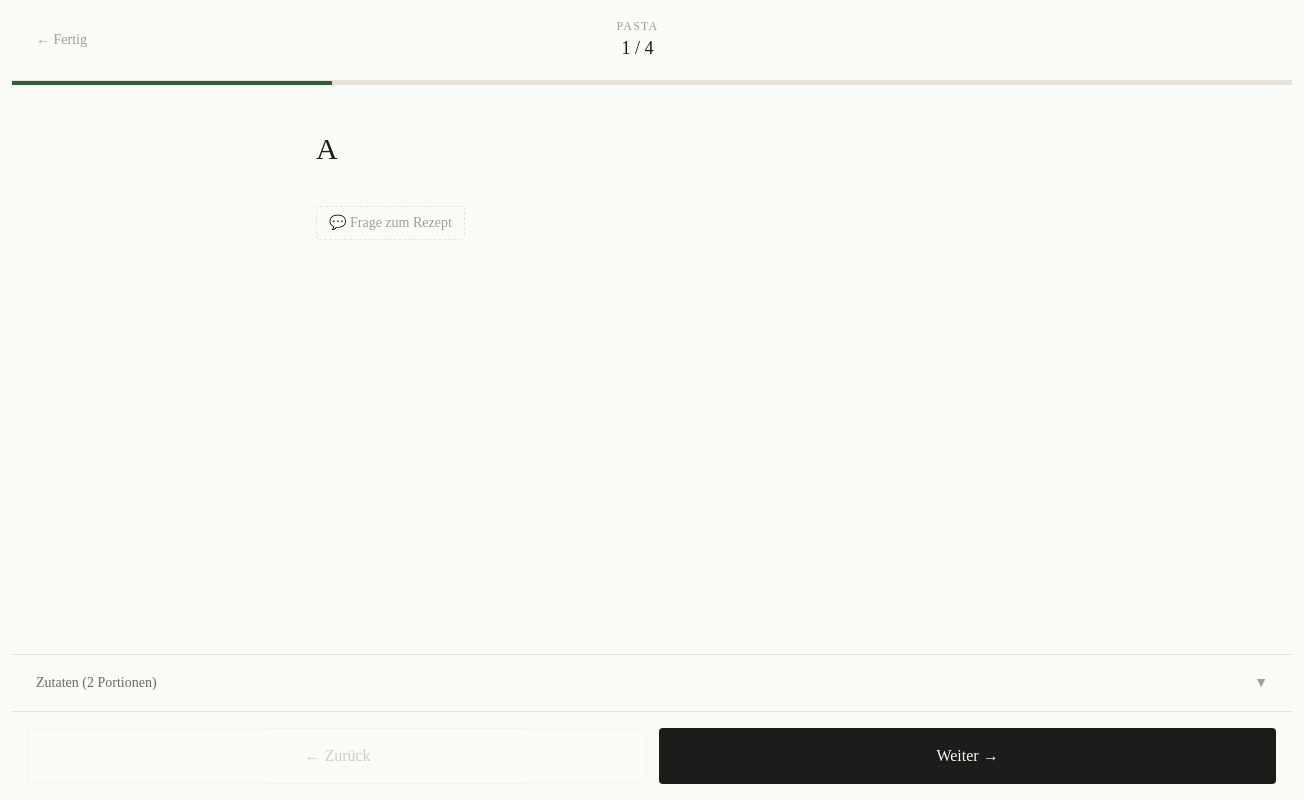
Test case: CookMode — persistent timer › beeps at zero even while viewing a different step
Click the button "Weiter →" at (968, 756), box [659, 728, 1276, 784]
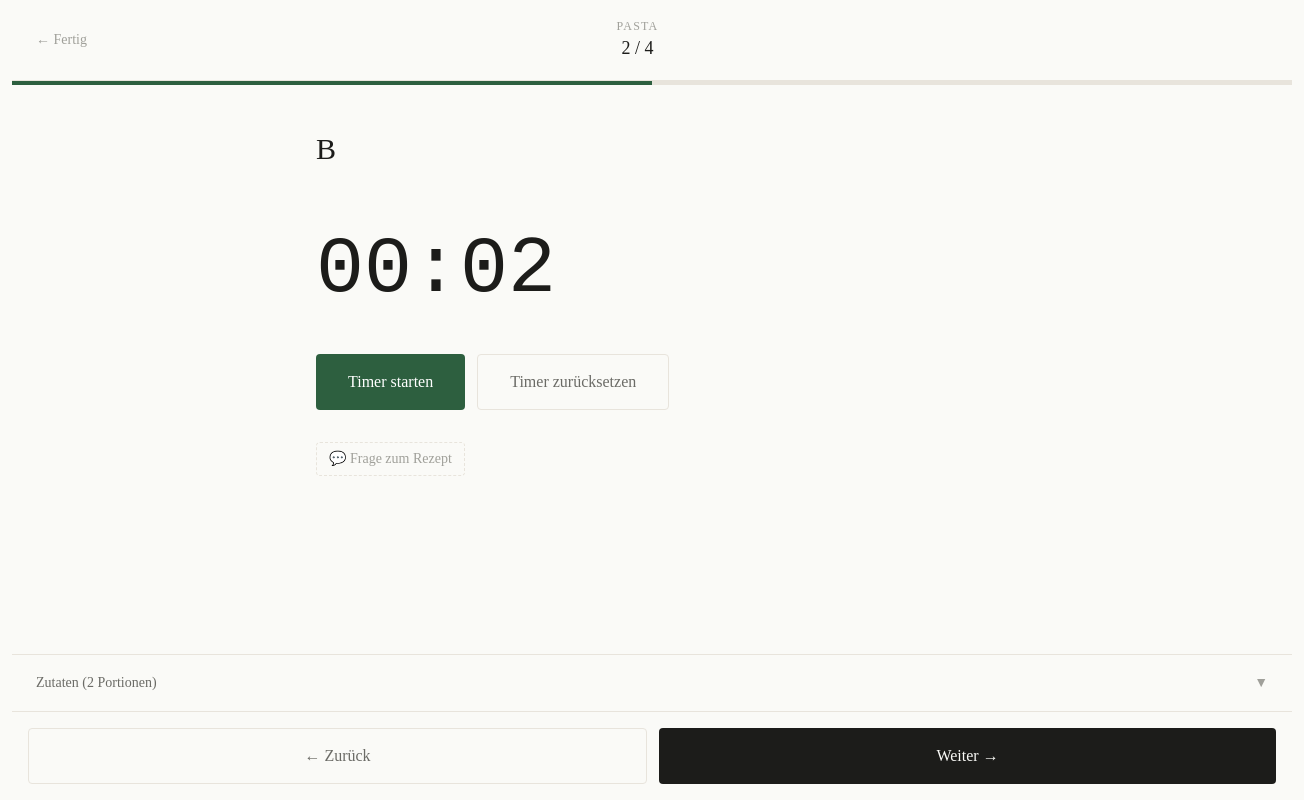
Click the button "Timer starten" at (391, 382), box [316, 354, 465, 410]
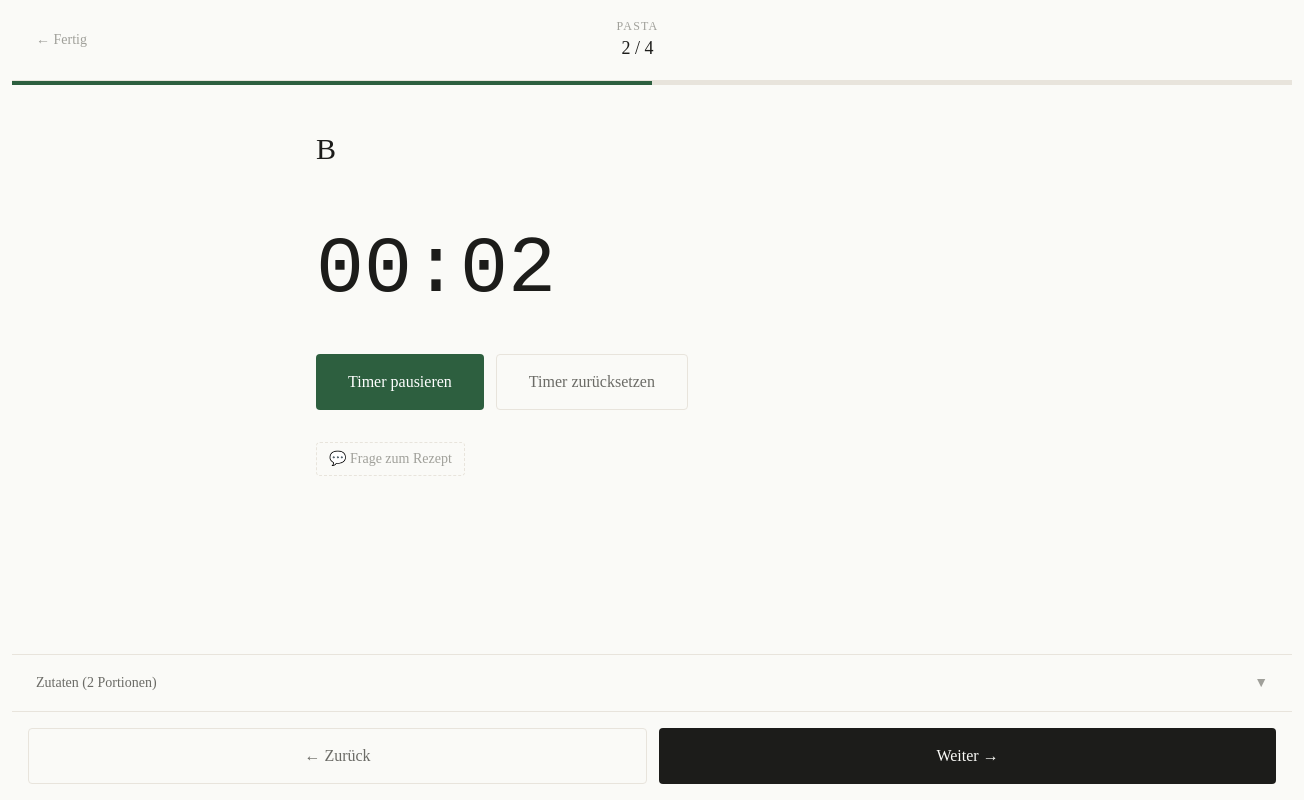
Click the button "Weiter →" at (968, 756), box [659, 728, 1276, 784]
Wait 2000 ms
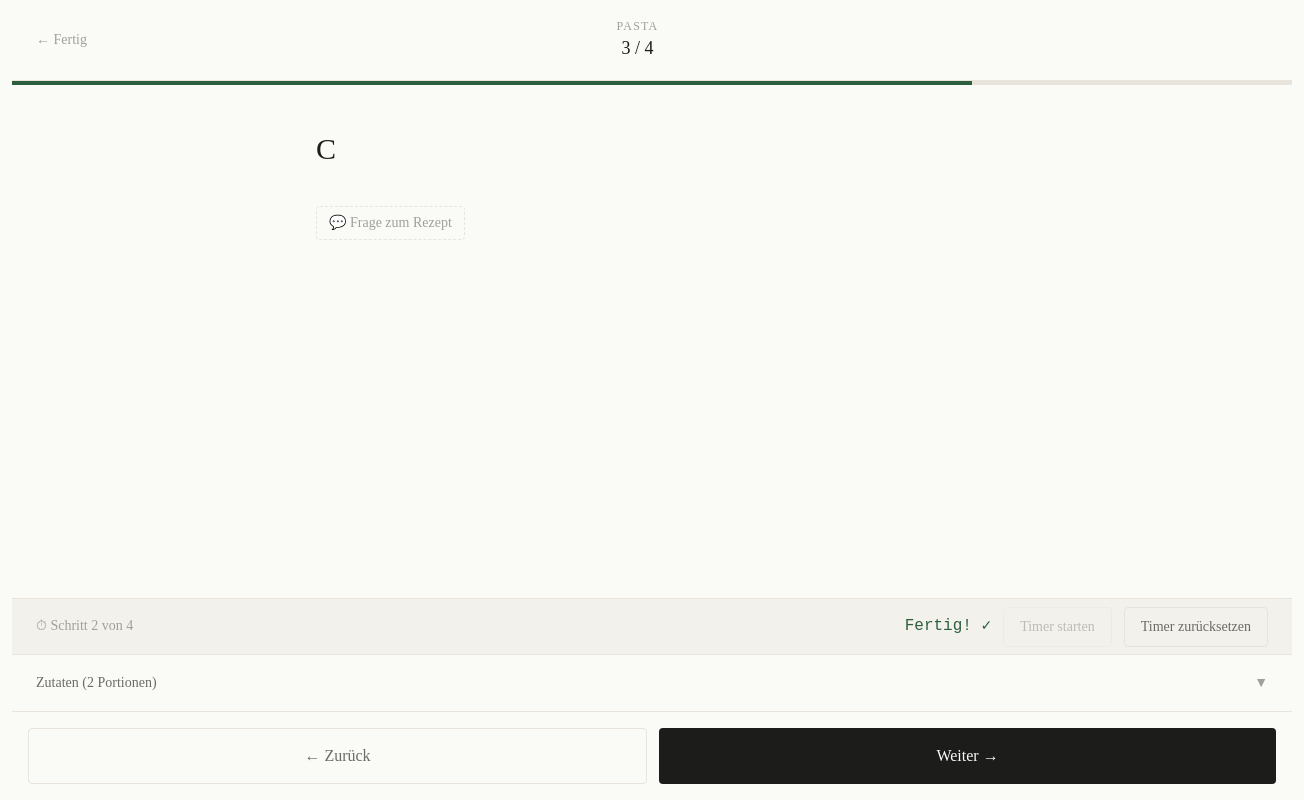
Now the text "Fertig! ✓" is shown, box [905, 614, 991, 639]
